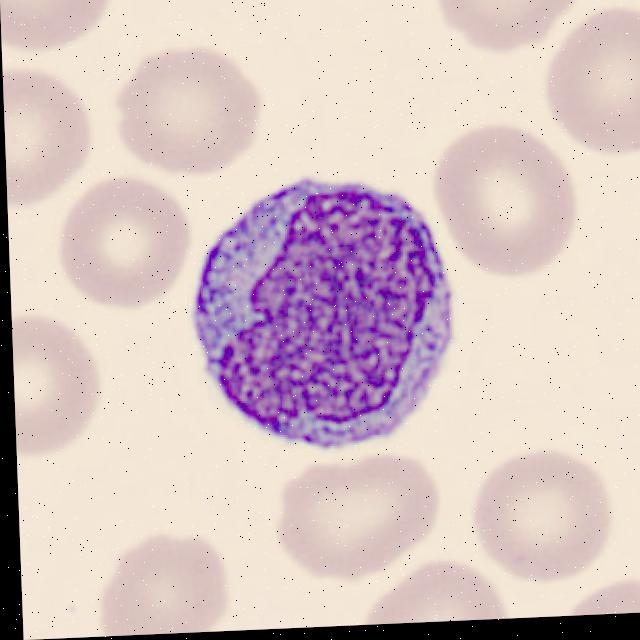monocyte: (159, 143, 470, 449)
rbc: (442, 119, 574, 275), (122, 46, 259, 177), (289, 453, 434, 569), (467, 455, 610, 571), (63, 185, 191, 303), (546, 6, 640, 147), (94, 540, 228, 637), (12, 310, 98, 454), (3, 68, 83, 211), (371, 559, 504, 624), (435, 0, 579, 50), (1, 0, 112, 47), (562, 577, 640, 616)
